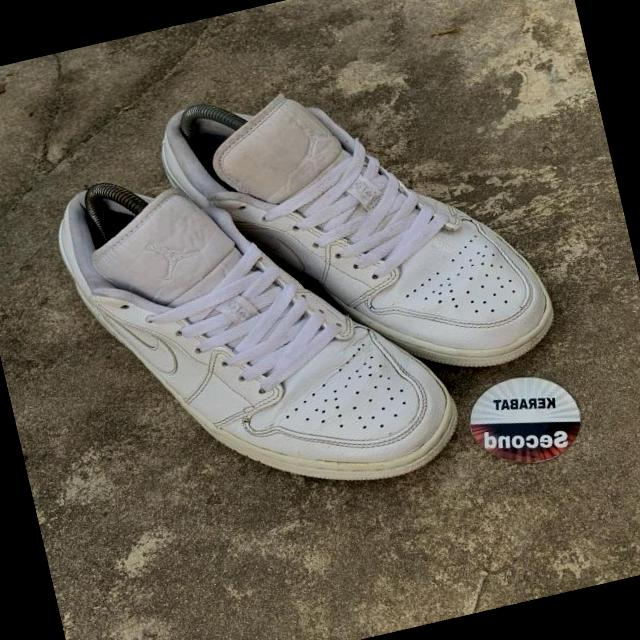nike_original_airforce: (39, 112, 470, 539), (143, 35, 566, 428)
